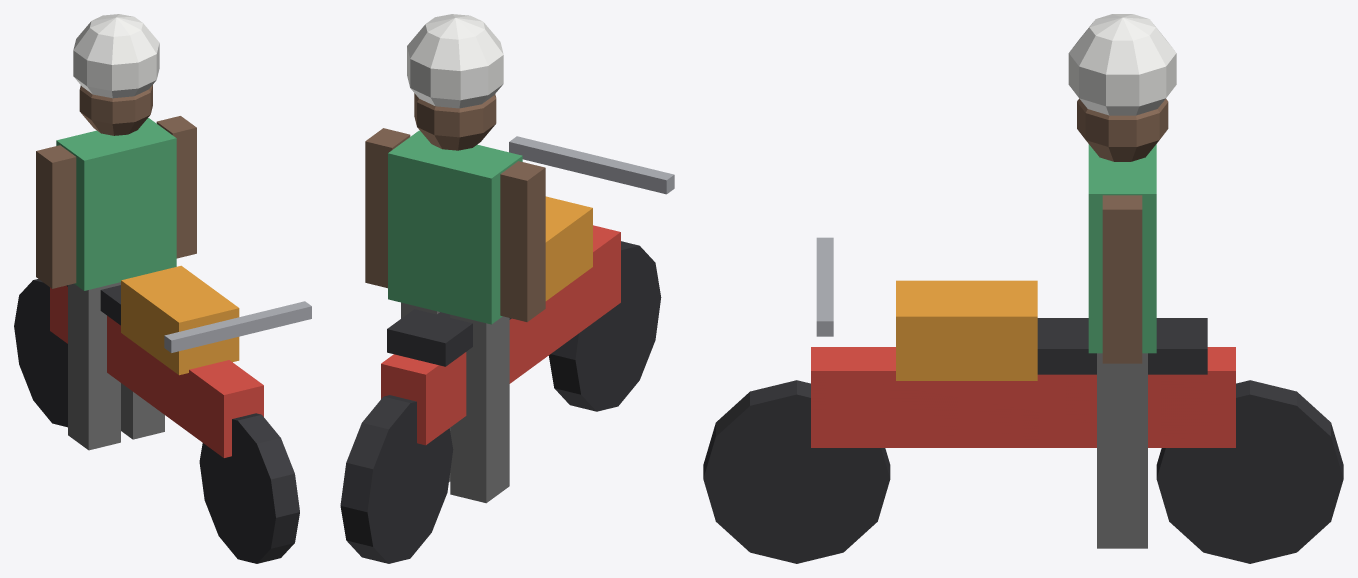
The model's file is VH_OkadaRider.glb.
3 views of the same model, side by side, from view 1: azimuth 30°, elevation 25°; view 2: azimuth 150°, elevation 25°; view 3: azimuth 270°, elevation 25° (orthographic). The views are drawn at different scales.
Visible parts, largest first — view 1: VH_OkadaRider; view 2: VH_OkadaRider; view 3: VH_OkadaRider.
Part boxes in pixels (x1,y1,x2,y2): VH_OkadaRider: (14, 14, 311, 563); VH_OkadaRider: (340, 14, 674, 563); VH_OkadaRider: (703, 14, 1343, 563).
Bounding box in the file's own units: 0.72 × 2.1 × 2.26.
